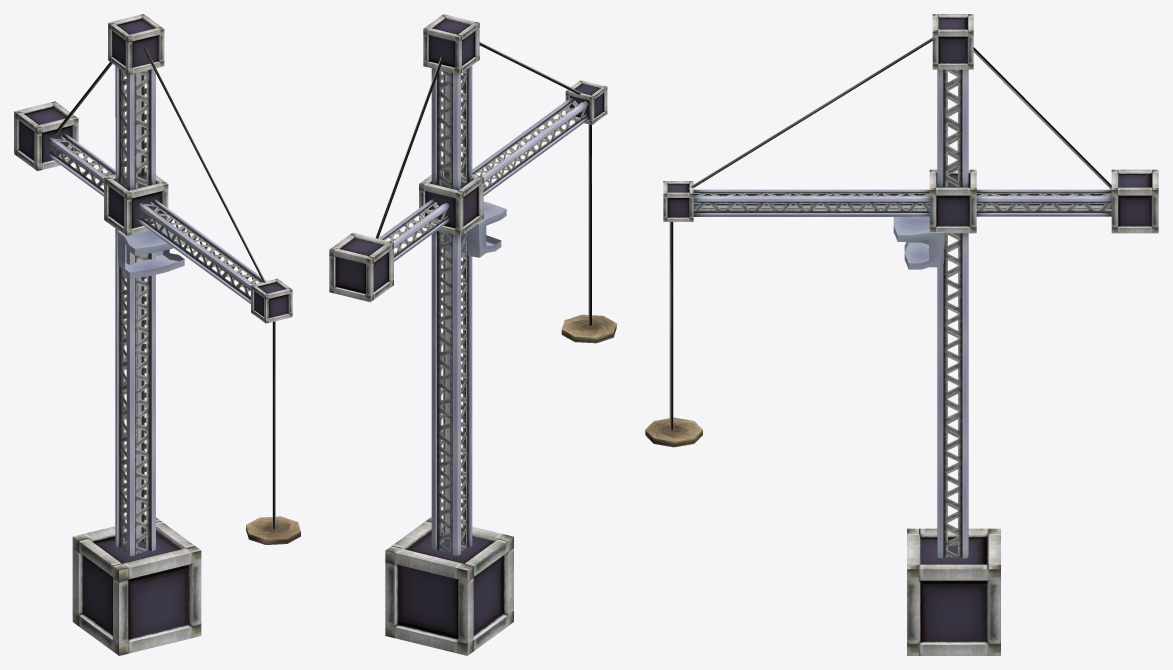
File: crane_140m.DAE
The picture shows the model from 3 angles, left to right: view 1: azimuth 30°, elevation 25°; view 2: azimuth 150°, elevation 25°; view 3: azimuth 270°, elevation 25°; orthographic projection.
Visible parts, largest first — view 1: Object05; view 2: Object05; view 3: Object05.
Boxes of the visible parts, x1,y1,x2,y2 form: Object05: (14,14,300,655); Object05: (329,14,616,655); Object05: (645,14,1158,655).
Size of the model in its own units: 28.99 by 203 by 155.
